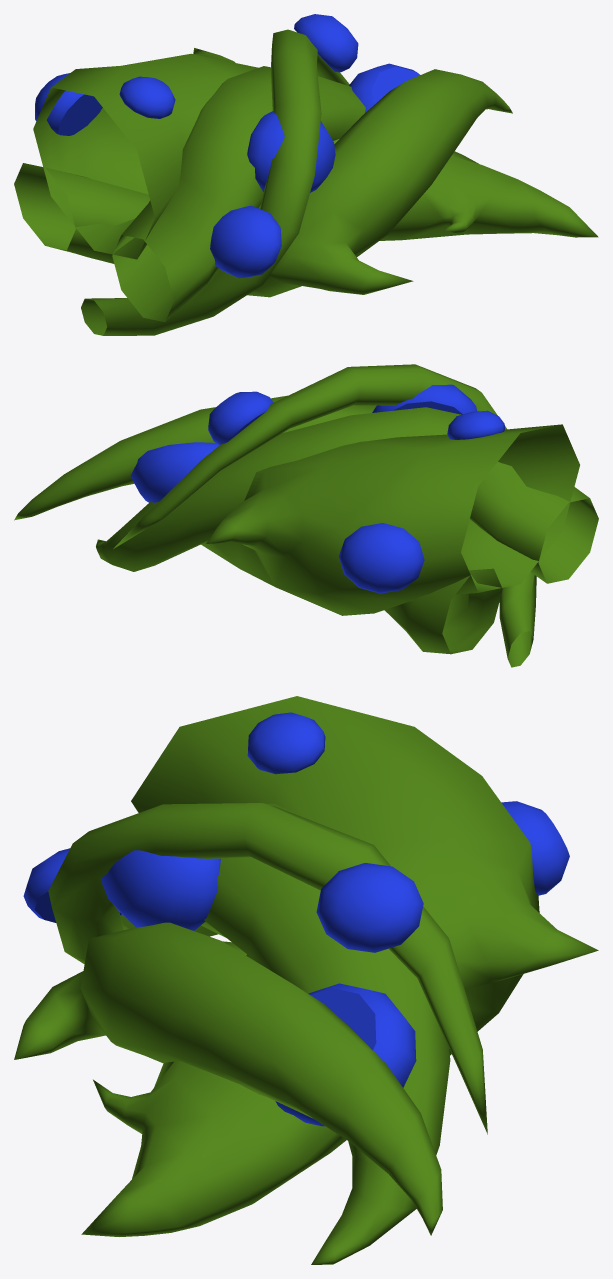
The model's file is 뿌리_물_끝부분.fbx.
3 renders of one model, top to bottom at view 1: azimuth 30°, elevation 25°; view 2: azimuth 150°, elevation 25°; view 3: azimuth 270°, elevation 25°, orthographic. The views are drawn at different scales.
Visible parts, largest first — view 1: root_water_edge; view 2: root_water_edge; view 3: root_water_edge.
Part boxes in pixels (box(x1,y1,x2,y2)): root_water_edge: box(14, 14, 598, 335); root_water_edge: box(14, 364, 598, 667); root_water_edge: box(14, 696, 598, 1264).
Size of the model in its own units: 99.88 by 50.48 by 79.21.
